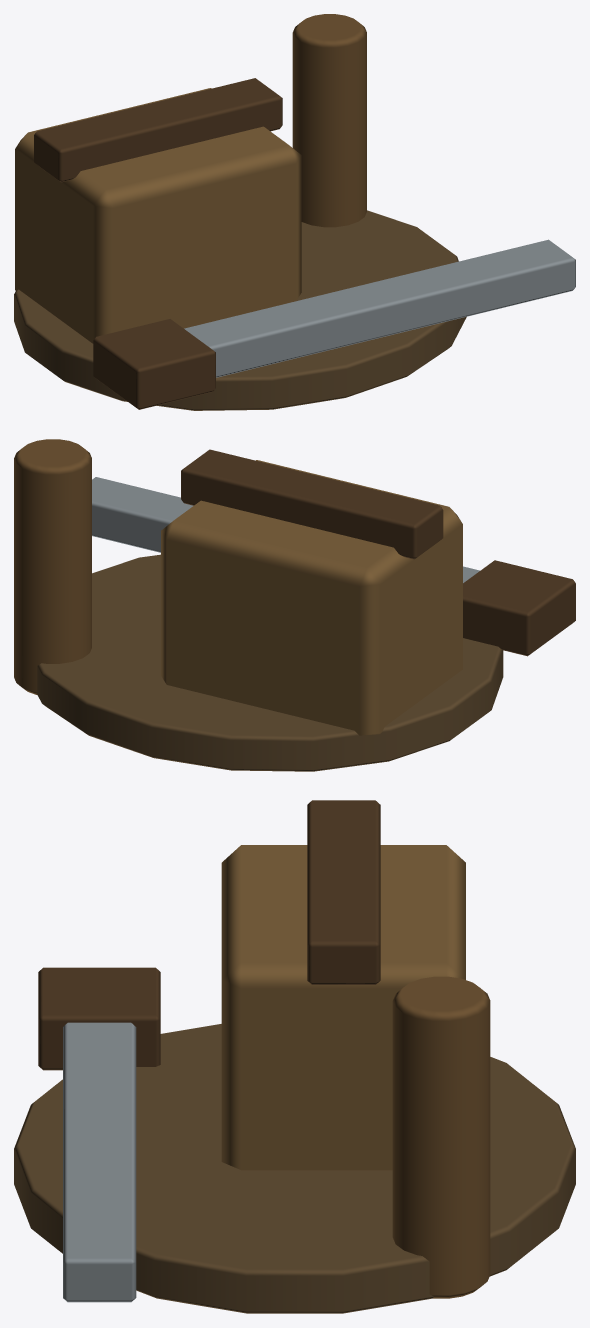
File: gear-pile.702aad0f.glb
3 renders of one model, top to bottom at view 1: azimuth 30°, elevation 25°; view 2: azimuth 150°, elevation 25°; view 3: azimuth 270°, elevation 25°, orthographic. The views are drawn at different scales.
Parts seen in each view (by area): view 1: body; view 2: body; view 3: body.
Boxes of the visible parts, x1=… form: body: x1=14, y1=14, x2=575, y2=410; body: x1=14, y1=439, x2=575, y2=771; body: x1=14, y1=800, x2=575, y2=1313.
Size of the model in its own units: 0.56 by 0.26 by 0.46.
